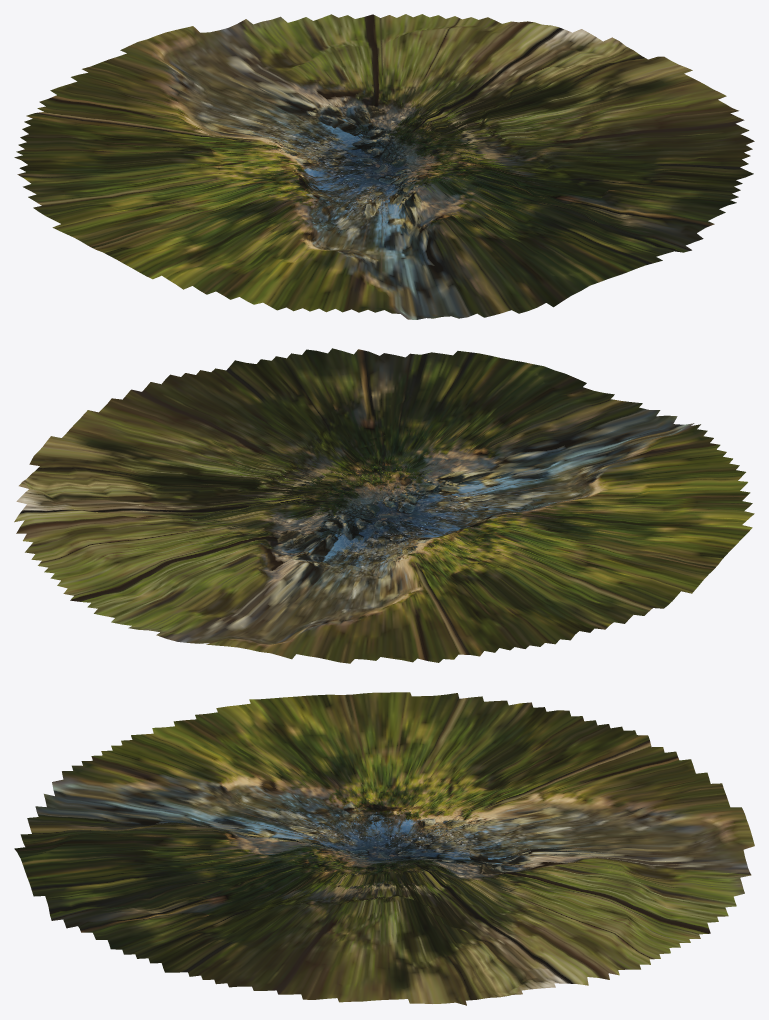
Rendered from near_environment.glb.
3 views of the same model, one above another, from view 1: azimuth 30°, elevation 25°; view 2: azimuth 150°, elevation 25°; view 3: azimuth 270°, elevation 25° (orthographic).
Visible parts, largest first — view 1: near_environment; view 2: near_environment; view 3: near_environment.
Part boxes in pixels (x1=…): near_environment: x1=14, y1=14, x2=754, y2=319; near_environment: x1=14, y1=348, x2=754, y2=663; near_environment: x1=14, y1=692, x2=754, y2=1005.
Size of the model in its own units: 49.72 by 1.82 by 49.83.
Materials: 1 (1 with a texture image).
